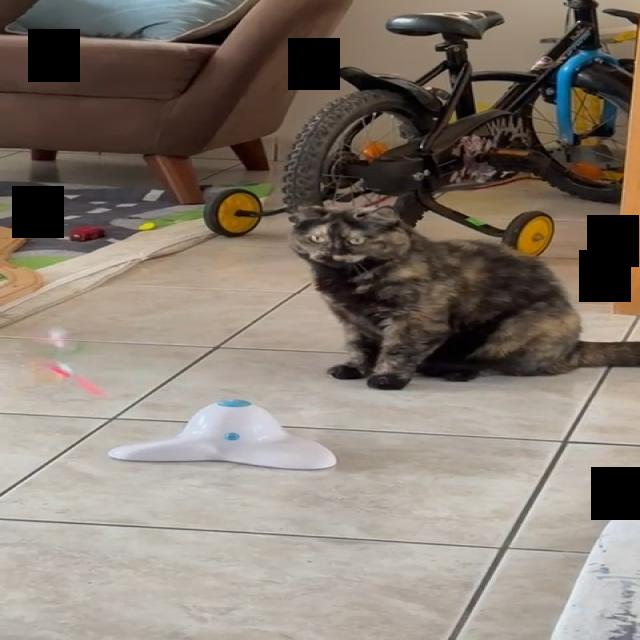authorized: (286, 203, 638, 390)
